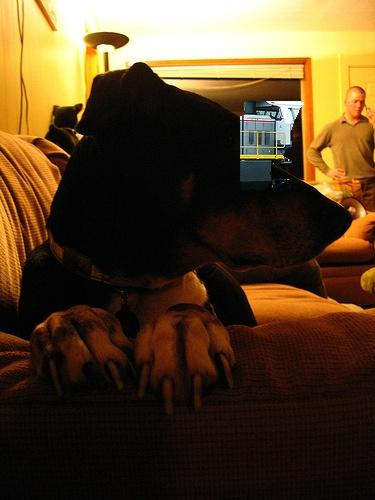tampered: (241, 101, 304, 191)
